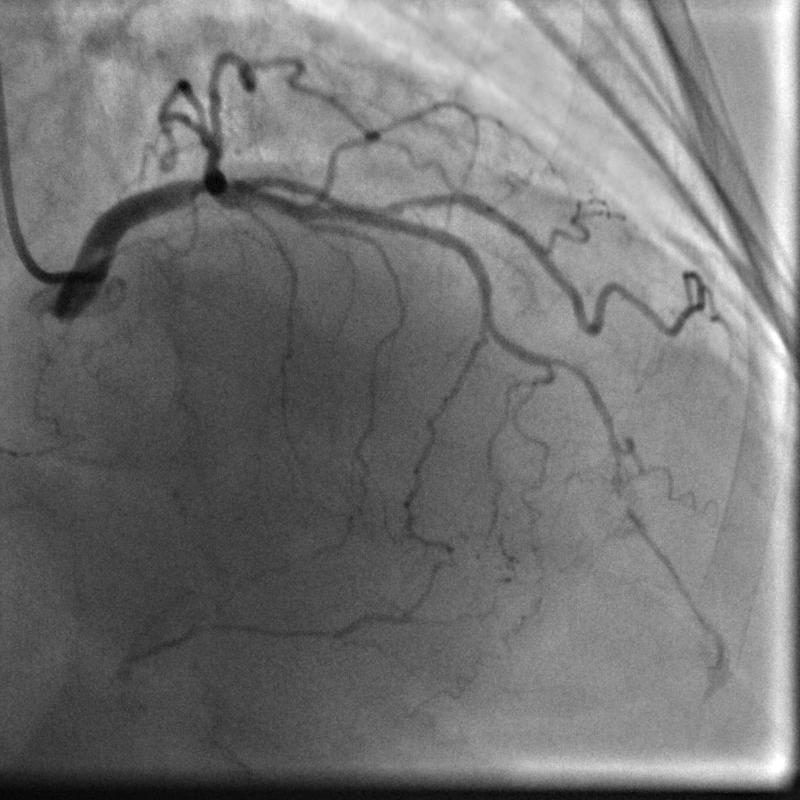Stenosis: (376, 182, 436, 218)
